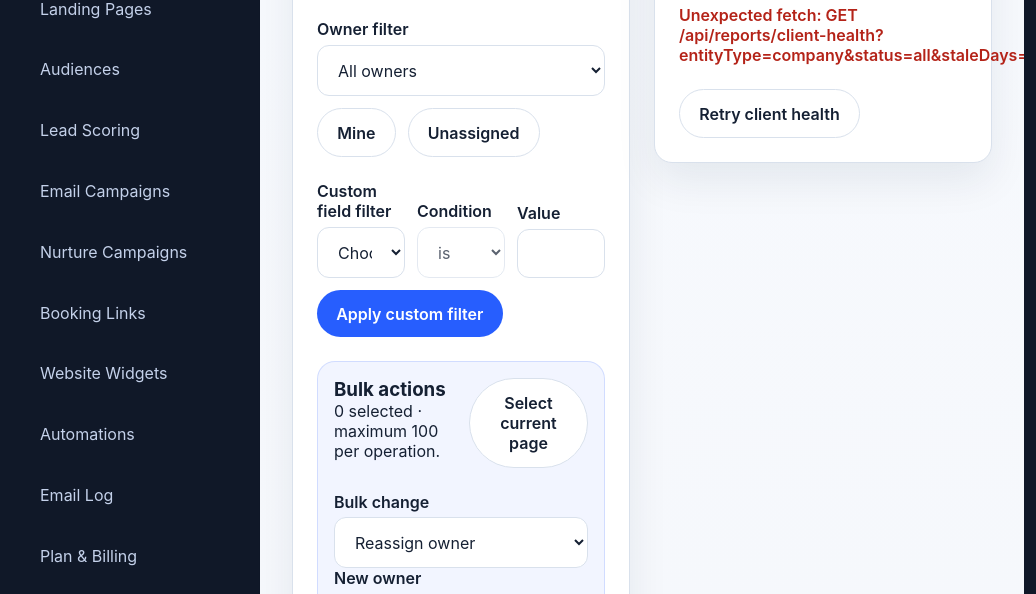
Scenario: custom fields record flow › shows list values and preserves a typed filter in URL, export, and saved views
(page scrolled)
Select "Service tier" in the dropdown labelled "Custom field filter". click: (361, 253)
box: [317,227,405,278]
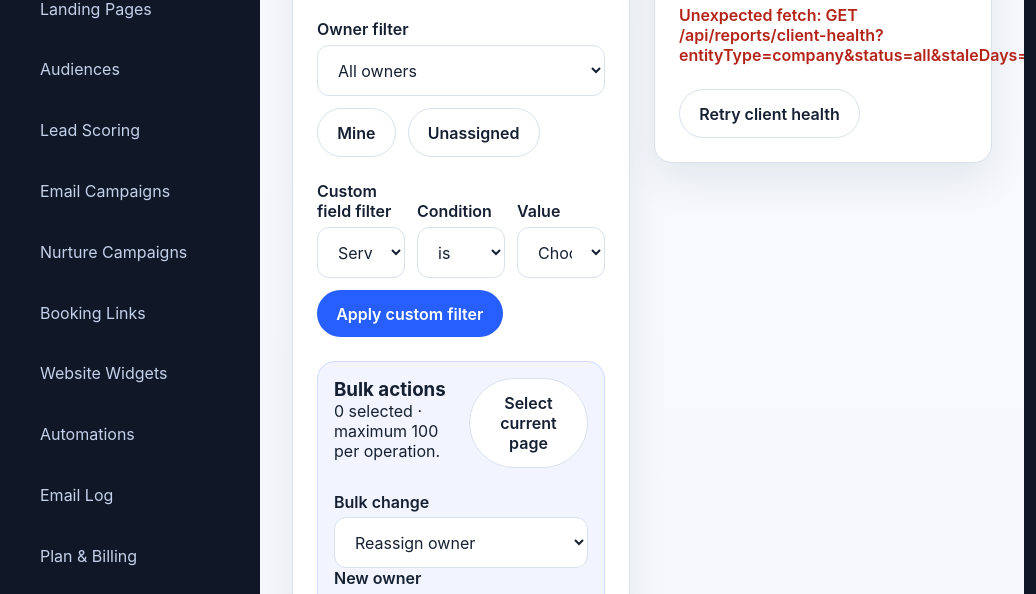
Select "Gold" in the dropdown labelled "Value". click: (561, 253)
box: [517,227,605,278]
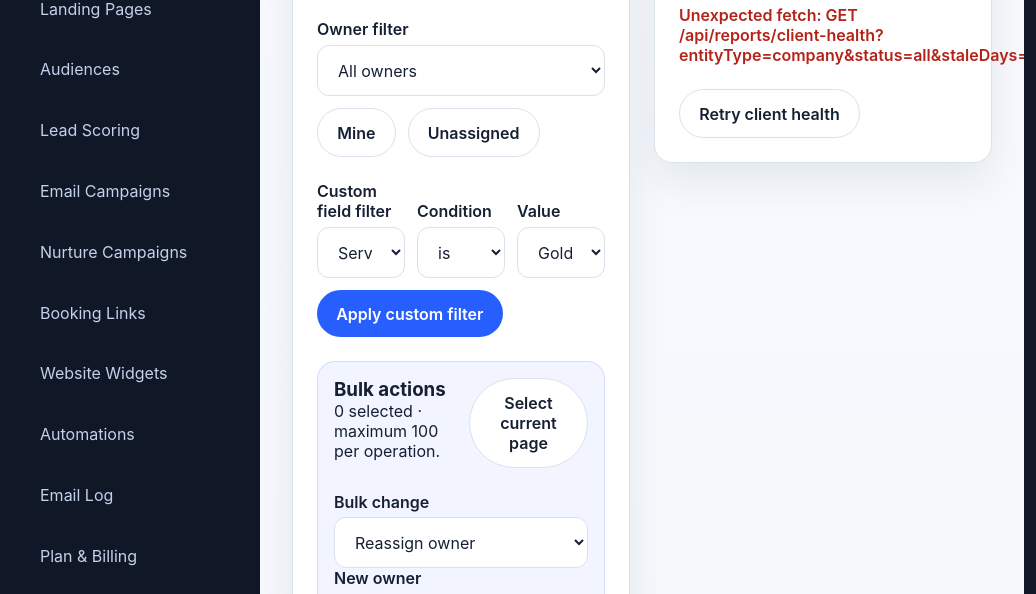
Click the button "Apply custom filter". click: (410, 314)
box: [317,290,503,337]
(page scrolled)
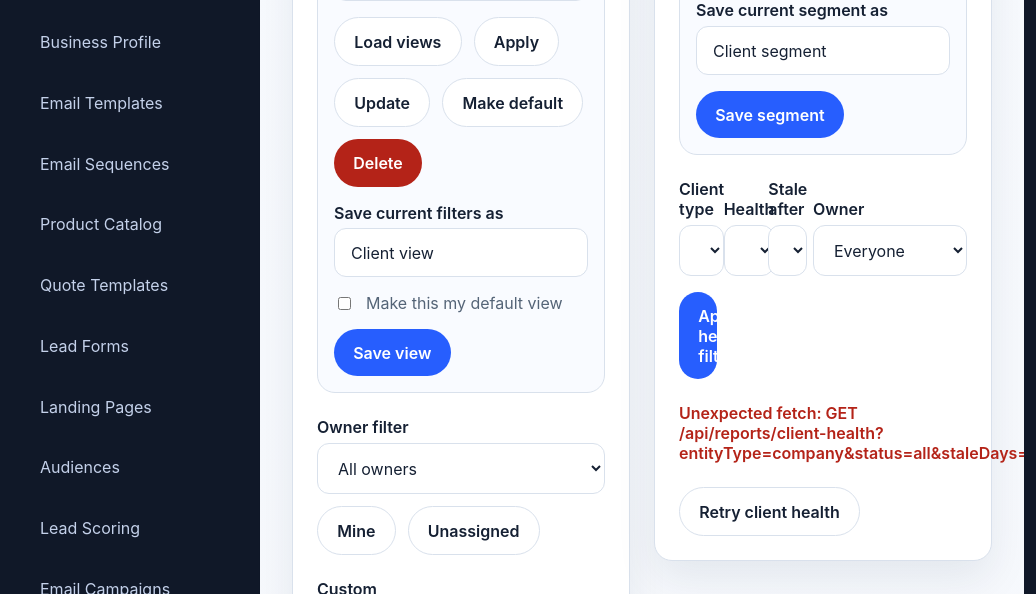
Replace the text in the field labelled "Save current filters as" with "Gold accounts". click: (461, 253)
box: [334,228,588,277]
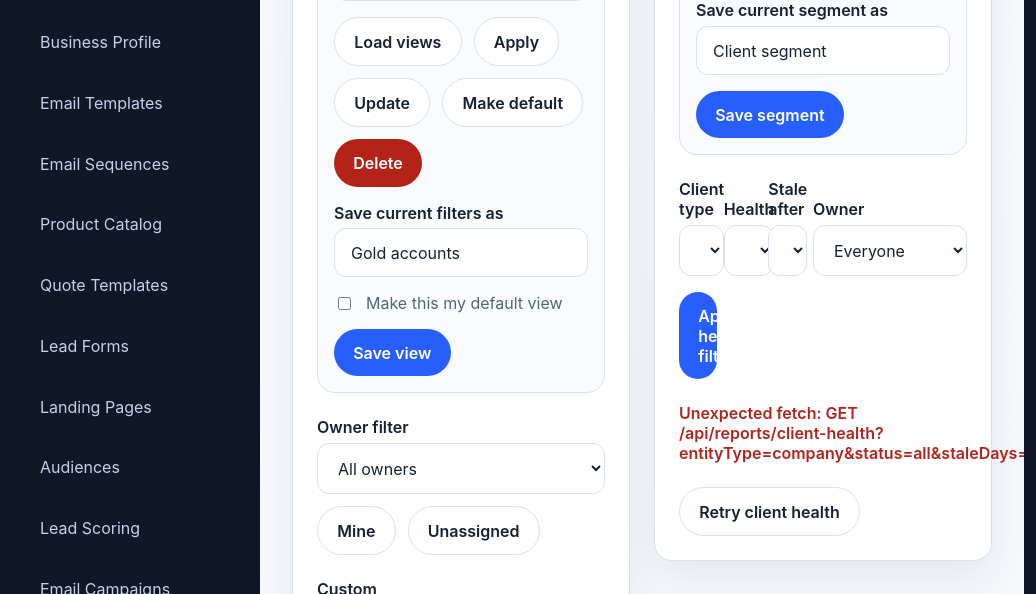
Click the button "Save view". click: (392, 353)
box: [334,329,450,376]
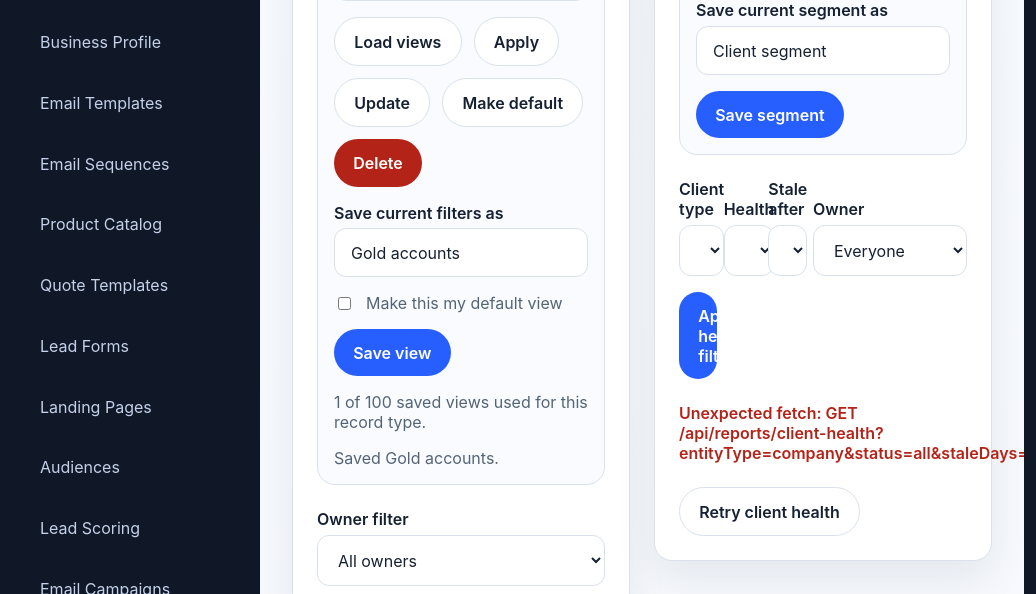
Expected: the text "Saved Gold accounts." is shown, [334,448,499,468]
